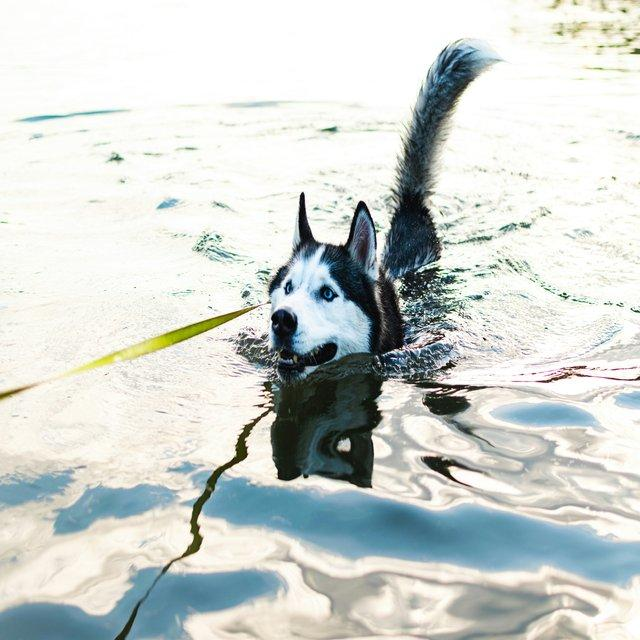husky: (265, 36, 505, 381)
